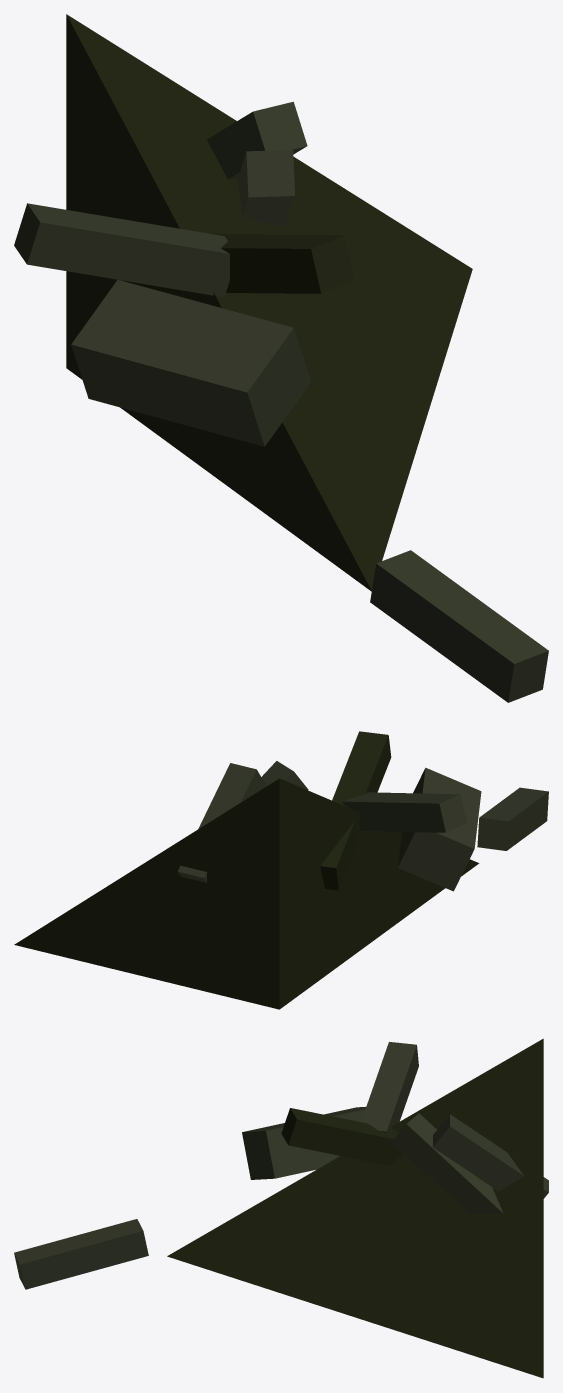
File: SM_PilaZombi_RemateDer_Altura1_s0_LOD1.fbx
The picture shows the model from 3 angles, top to bottom: view 1: azimuth 30°, elevation 25°; view 2: azimuth 150°, elevation 25°; view 3: azimuth 270°, elevation 25°; orthographic projection. The views are drawn at different scales.
Parts seen in each view (by area): view 1: SM_pila_zombis_v0_LOD1; view 2: SM_pila_zombis_v0_LOD1; view 3: SM_pila_zombis_v0_LOD1.
Part boxes in pixels (x1,y1,x2,y2): SM_pila_zombis_v0_LOD1: [14, 14, 548, 702]; SM_pila_zombis_v0_LOD1: [14, 731, 548, 1009]; SM_pila_zombis_v0_LOD1: [14, 1038, 548, 1378].
Bounding box in the file's own units: 1.68 × 1.08 × 2.22.
